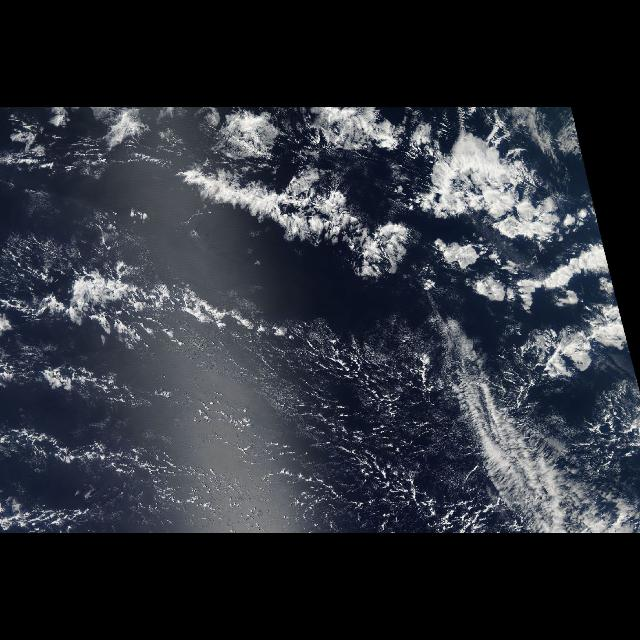Fish: (160, 142, 432, 292)
Gravel: (244, 327, 486, 533)
Sugar: (164, 320, 468, 488)
